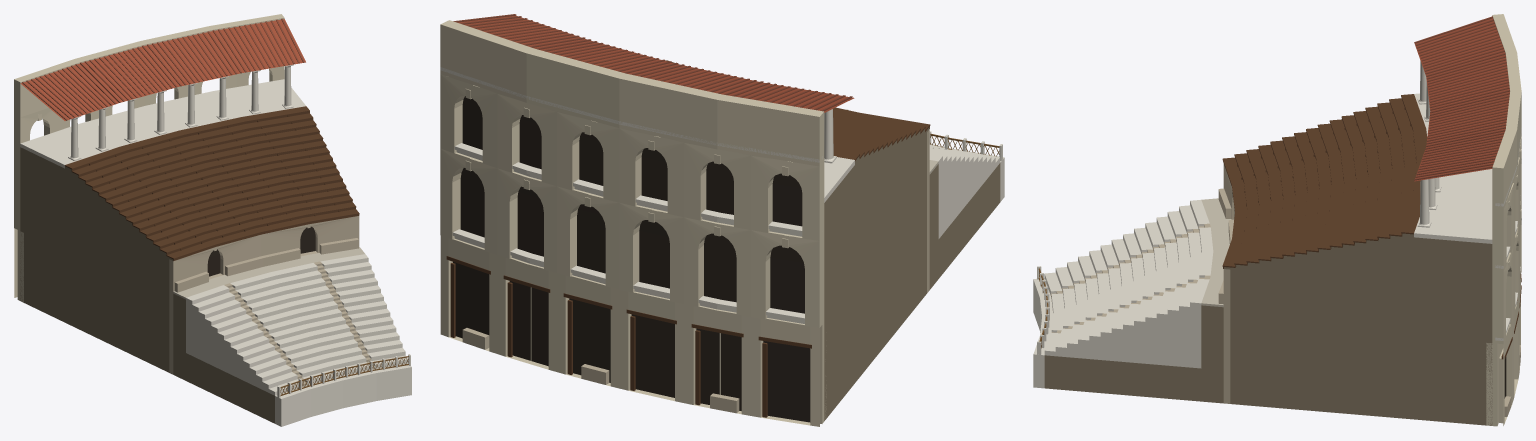
File: rome_cavea_c.glb
3 renders of one model, left to right at view 1: azimuth 30°, elevation 25°; view 2: azimuth 150°, elevation 25°; view 3: azimuth 270°, elevation 25°, orthographic. The views are drawn at different scales.
Parts seen in each view (by area): view 1: rome_cavea_c; view 2: rome_cavea_c; view 3: rome_cavea_c.
Part boxes in pixels (x1,y1,x2,y2): rome_cavea_c: [14, 14, 411, 426]; rome_cavea_c: [440, 14, 1004, 426]; rome_cavea_c: [1033, 14, 1521, 426].
Size of the model in its own units: 31.99 by 25 by 42.77.
